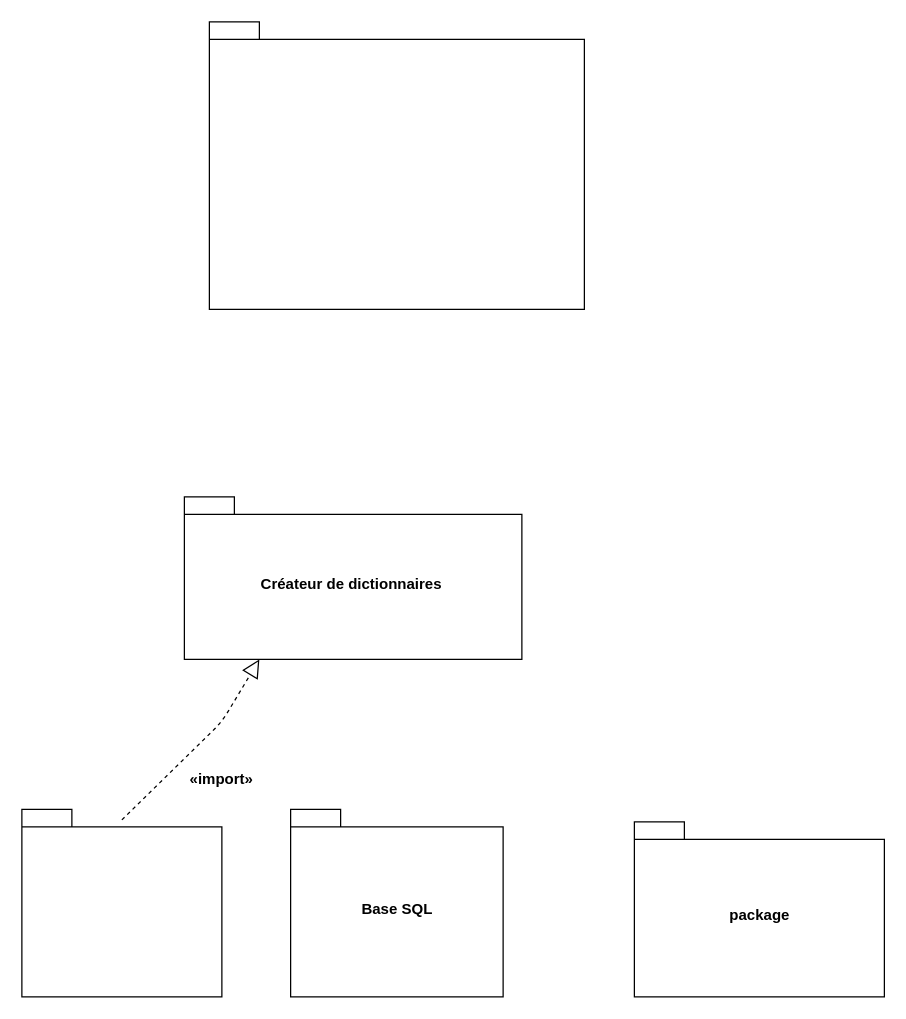
Some shapes in this 906 by 1019 pixel diagram are drawn without their labels. Each missing label, with the centre of its shape:
"Génération de données" belongs at pixel 396 165.
"Web" belongs at pixel 121 902.
